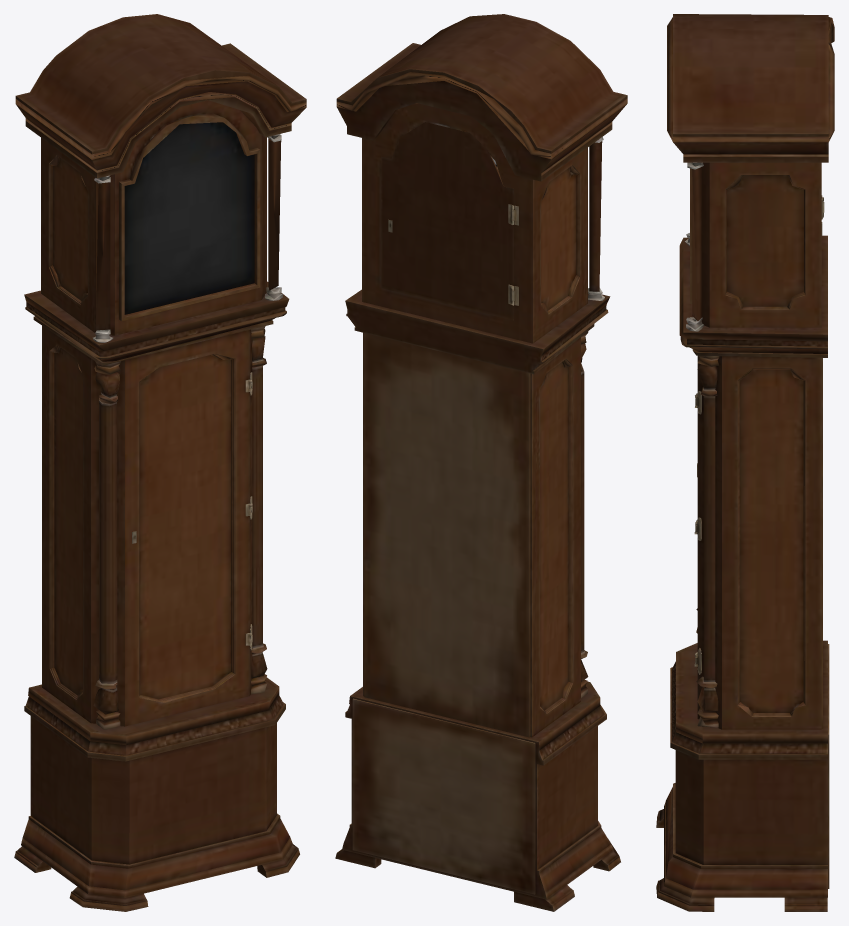
Rendered from vintage_grandfather_clock_01.glb.
The picture shows the model from 3 angles, left to right: view 1: azimuth 30°, elevation 25°; view 2: azimuth 150°, elevation 25°; view 3: azimuth 270°, elevation 25°; orthographic projection. The views are drawn at different scales.
Parts seen in each view (by area): view 1: vintage_grandfather_clock_01_Body; view 2: vintage_grandfather_clock_01_Body; view 3: vintage_grandfather_clock_01_Body.
Boxes of the visible parts, left/top/right/bottom form: vintage_grandfather_clock_01_Body: left=14, top=14, right=306, bottom=911; vintage_grandfather_clock_01_Body: left=335, top=14, right=627, bottom=911; vintage_grandfather_clock_01_Body: left=656, top=14, right=834, bottom=911.
Size of the model in its own units: 0.6167 by 2.19 by 0.4265.
Materials: 2 (2 with a texture image).
